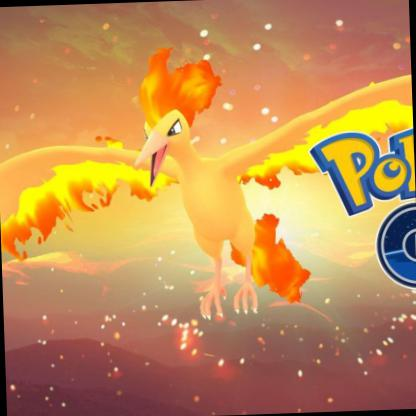Moltres: (1, 1, 416, 416), (2, 1, 416, 416)
